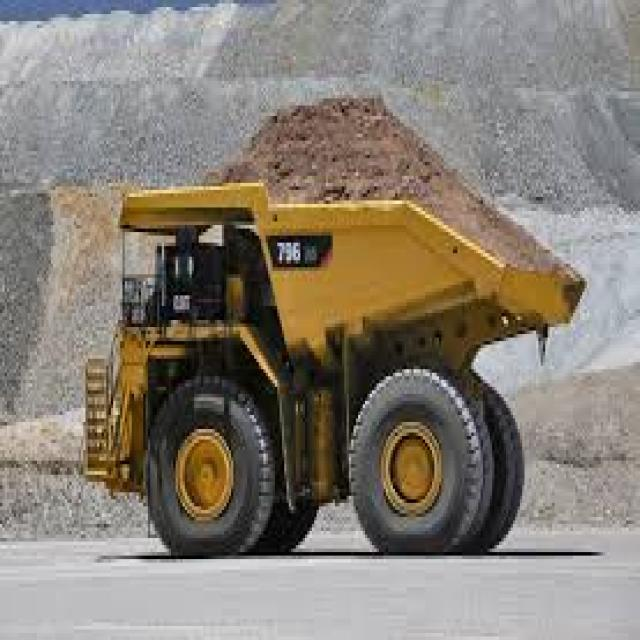dump_truck: (101, 74, 564, 548)
